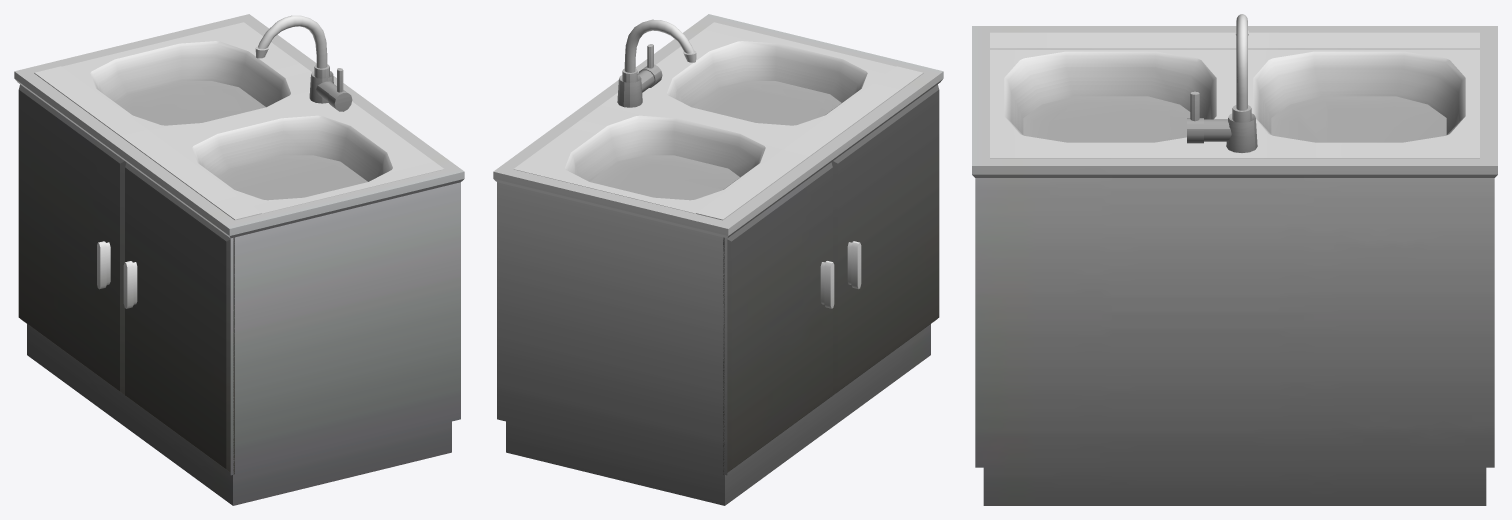
Rendered from kitchen_sink_mora.glb.
3 views of the same model, side by side, from view 1: azimuth 30°, elevation 25°; view 2: azimuth 150°, elevation 25°; view 3: azimuth 270°, elevation 25° (orthographic). The views are drawn at different scales.
Visible parts, largest first — view 1: MSH_Sink_MTA_Kitchen_0; view 2: MSH_Sink_MTA_Kitchen_0; view 3: MSH_Sink_MTA_Kitchen_0.
Part boxes in pixels (x1,y1,x2,y2): MSH_Sink_MTA_Kitchen_0: (14,14,464,505); MSH_Sink_MTA_Kitchen_0: (493,14,943,505); MSH_Sink_MTA_Kitchen_0: (972,14,1497,505).
Bounding box in the file's own units: 108 × 157 × 165.
Materials: 1 (1 with a texture image).
